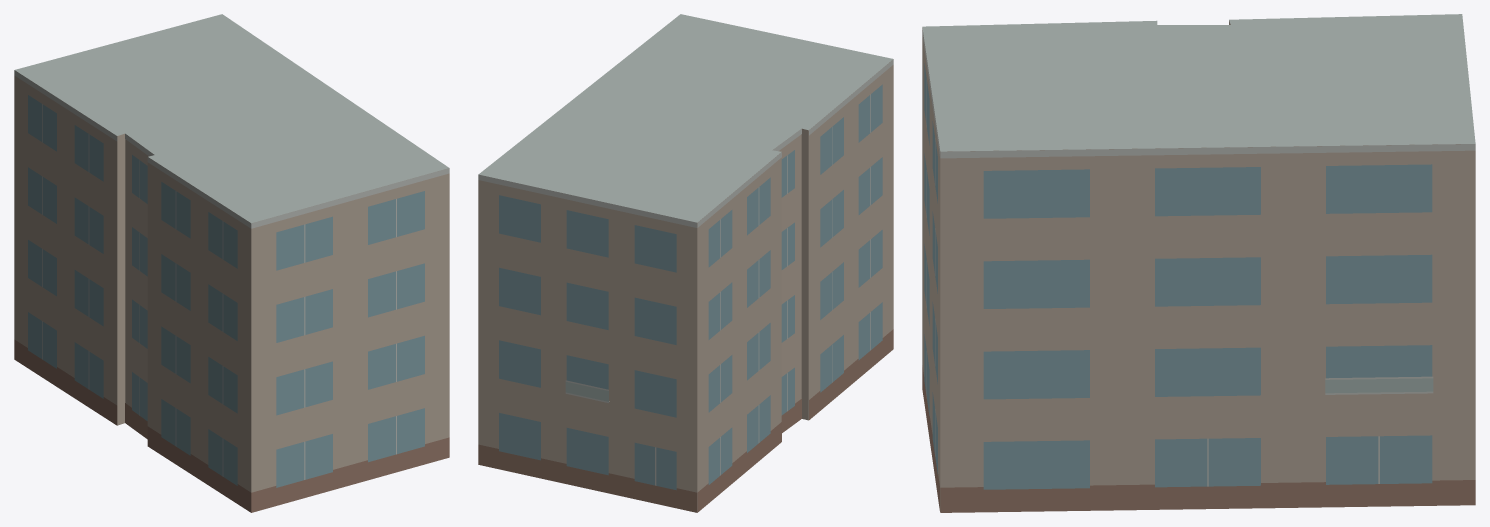
The model's file is survey-upis-32728486.glb.
The picture shows the model from 3 angles, left to right: view 1: azimuth 30°, elevation 25°; view 2: azimuth 150°, elevation 25°; view 3: azimuth 270°, elevation 25°; orthographic projection. The views are drawn at different scales.
Visible parts, largest first — view 1: survey-upis-32728486.tmp; view 2: survey-upis-32728486.tmp; view 3: survey-upis-32728486.tmp.
Boxes of the visible parts, box(x1,y1,x2,y2) form: survey-upis-32728486.tmp: box(14, 14, 449, 512); survey-upis-32728486.tmp: box(478, 14, 893, 512); survey-upis-32728486.tmp: box(922, 14, 1475, 512).
Size of the model in its own units: 10.54 by 12.9 by 17.91.
